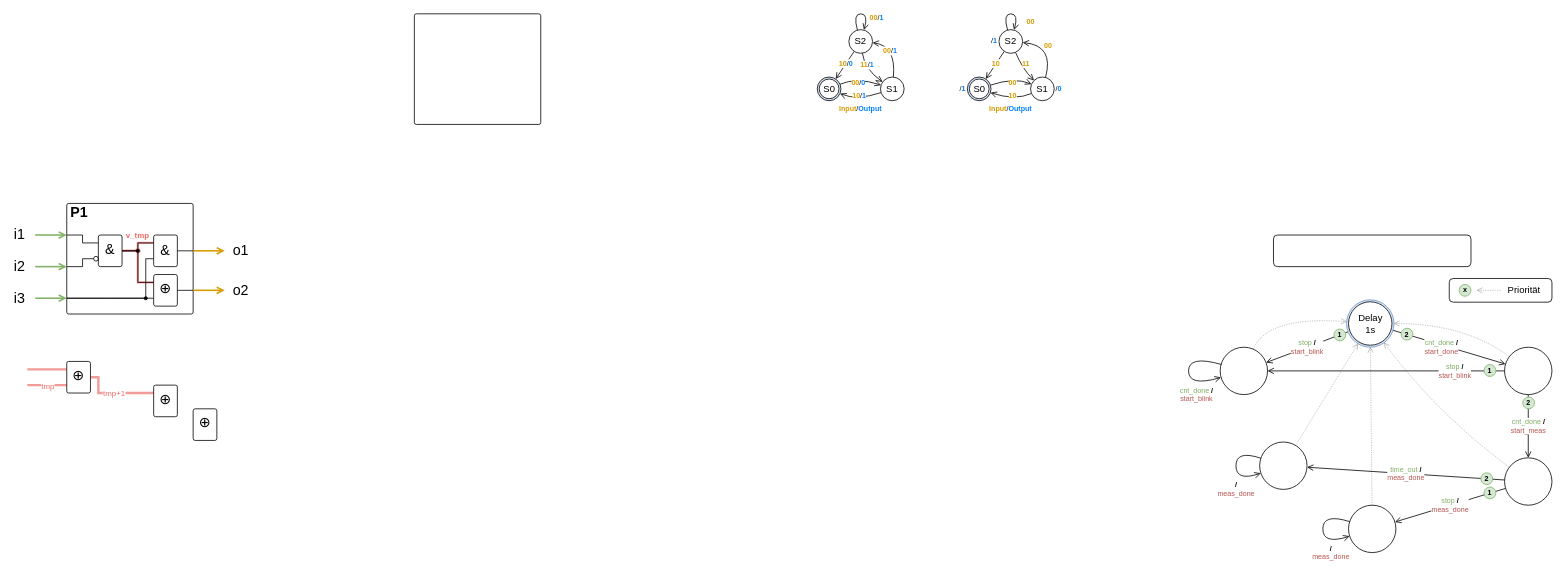
The diagram is 1566 pixels wide and 576 high, and some of its shapes have lost their labels. Here are the shapes that lost their labels. From the top down, the centre of each, then its label:
At pixel 477 68: "LUT6 (64x1)".
At pixel 1372 250: "s_del_1s, s_del_rand, s_measure, s_done, s_cheat, s_timeout".
At pixel 1243 370: "Cheat".
At pixel 1528 370: "Delay Rand".
At pixel 1283 465: "Timeout".
At pixel 1528 481: "Measure".
At pixel 1372 528: "Measure done".
